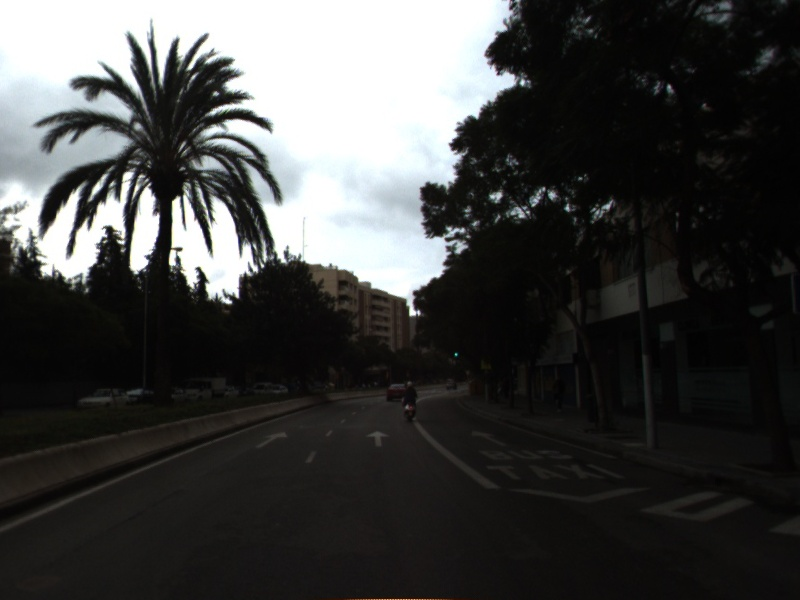STRAIGHT: (469, 428, 509, 448), (253, 429, 289, 450), (364, 429, 392, 448)
